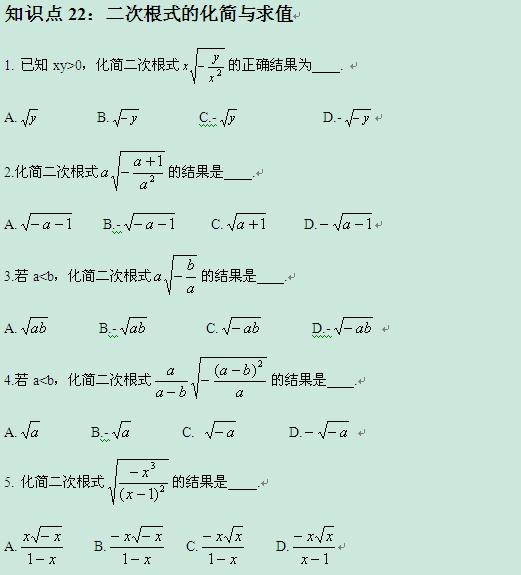cube: (149, 458, 158, 471)
division: (214, 376, 268, 387), (291, 542, 345, 553), (200, 541, 249, 553), (116, 479, 174, 486), (22, 544, 72, 552), (132, 169, 162, 177), (208, 62, 226, 71), (186, 274, 195, 280)
sqrt: (193, 354, 272, 400), (109, 454, 172, 507), (111, 149, 165, 191), (125, 209, 179, 237), (192, 46, 229, 86), (21, 209, 77, 235), (164, 250, 197, 293), (220, 313, 270, 339), (335, 315, 376, 341), (335, 209, 375, 235), (204, 416, 239, 443), (229, 211, 269, 234), (318, 418, 351, 443), (32, 522, 63, 545), (348, 105, 373, 133), (121, 313, 148, 337), (20, 315, 50, 336), (113, 105, 141, 127), (133, 524, 163, 544), (111, 418, 135, 442), (225, 522, 248, 547), (19, 419, 42, 443), (219, 106, 242, 127), (20, 106, 40, 129), (316, 524, 337, 544)
square: (146, 173, 158, 183), (256, 358, 263, 368), (159, 485, 166, 493), (216, 68, 222, 77)
